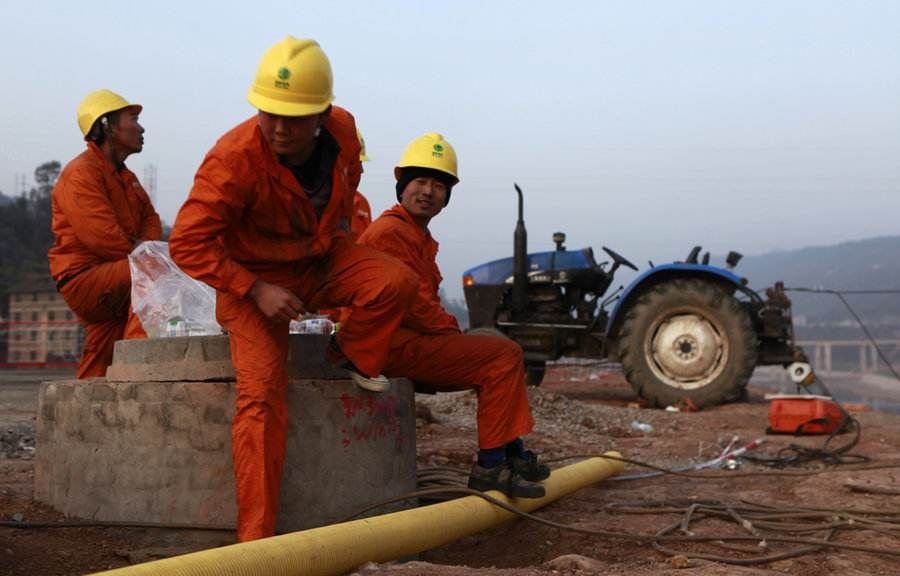yellow: (245, 29, 338, 157), (390, 130, 461, 219), (71, 86, 147, 167)
